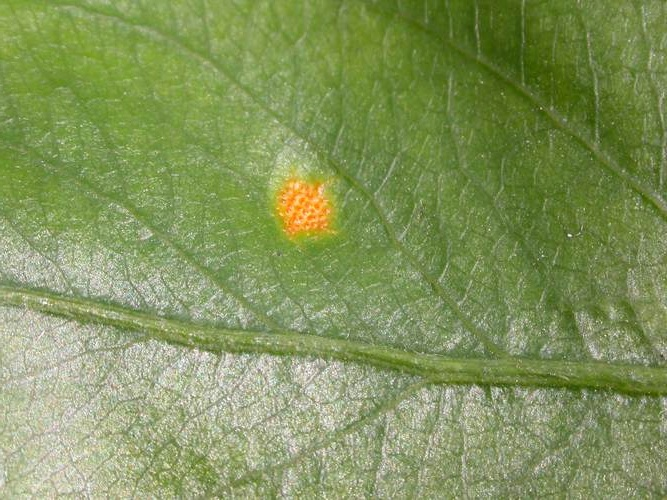Anthracnose: (269, 149, 350, 239)
